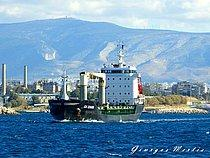Ship: (47, 37, 149, 126)
